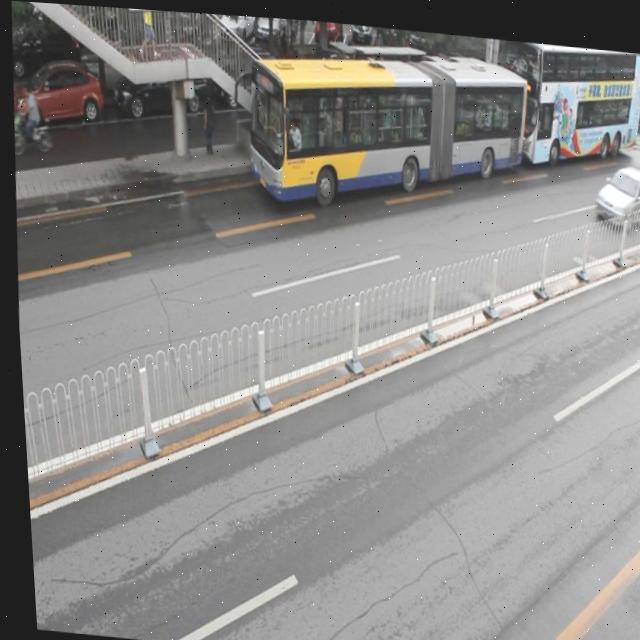car: (10, 54, 104, 131), (107, 50, 206, 117), (210, 41, 288, 112), (297, 50, 375, 115), (588, 152, 640, 222)
van: (243, 31, 528, 215), (495, 32, 640, 167)
